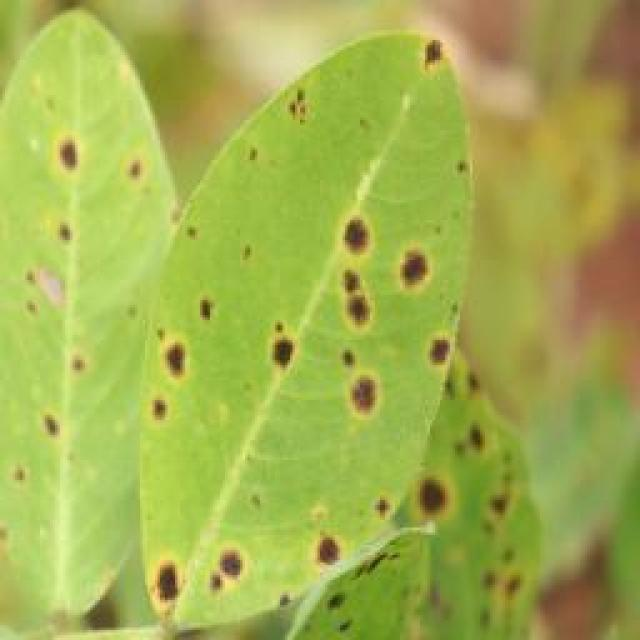Yellowish: (0, 0, 536, 640)
